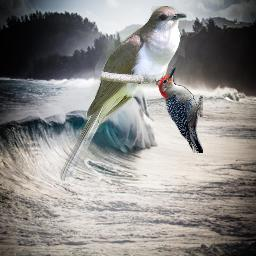Cuckoo: (57, 6, 187, 183)
Woodpecker: (156, 67, 203, 153)
